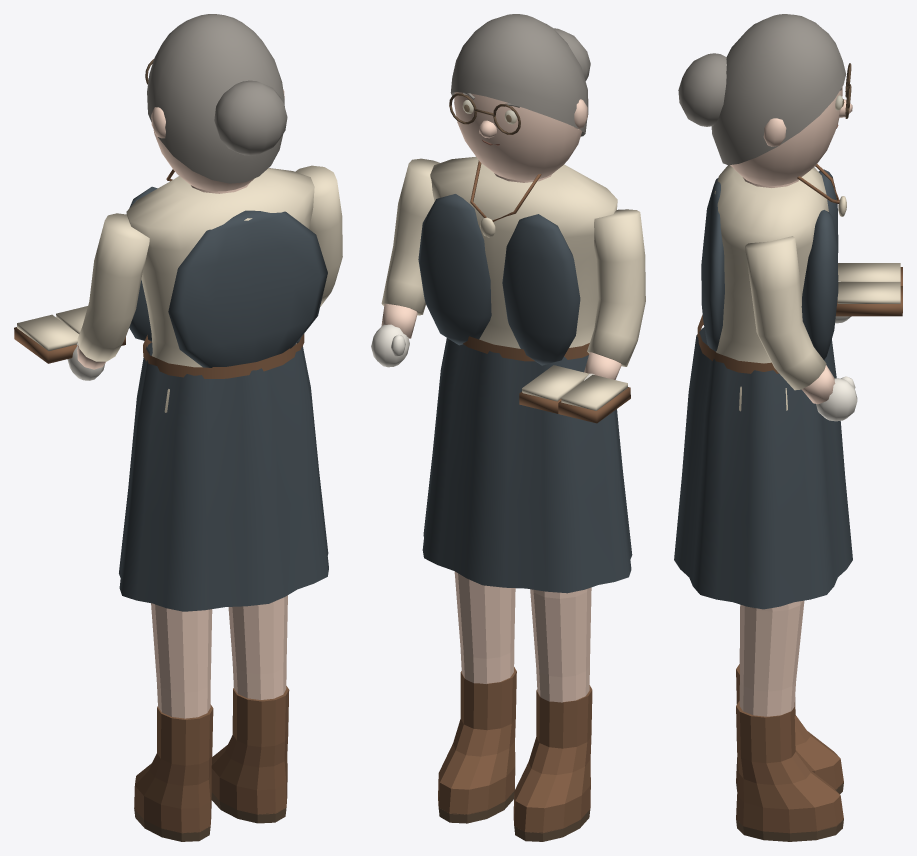
Rendered from SM_NPC_SAGE.glb.
The picture shows the model from 3 angles, left to right: view 1: azimuth 30°, elevation 25°; view 2: azimuth 150°, elevation 25°; view 3: azimuth 270°, elevation 25°; orthographic projection.
Visible parts, largest first — view 1: SM_NPC_SAGE_BODY, SM_NPC_SAGE_HAIR, SM_NPC_SAGE_LEG_L, SM_NPC_SAGE_LEG_R, SM_NPC_SAGE_ARM_L, SM_NPC_SAGE_ARM_R, SM_NPC_SAGE_HEAD; view 2: SM_NPC_SAGE_BODY, SM_NPC_SAGE_LEG_L, SM_NPC_SAGE_LEG_R, SM_NPC_SAGE_ARM_L, SM_NPC_SAGE_HAIR, SM_NPC_SAGE_HEAD, SM_NPC_SAGE_ARM_R; view 3: SM_NPC_SAGE_BODY, SM_NPC_SAGE_LEG_R, SM_NPC_SAGE_HAIR, SM_NPC_SAGE_ARM_R, SM_NPC_SAGE_HEAD, SM_NPC_SAGE_ARM_L, SM_NPC_SAGE_LEG_L.
Boxes of the visible parts, x1,y1,x2,y2 form: SM_NPC_SAGE_BODY: (119, 168, 328, 611); SM_NPC_SAGE_HAIR: (147, 14, 287, 183); SM_NPC_SAGE_LEG_L: (134, 603, 213, 841); SM_NPC_SAGE_LEG_R: (211, 595, 289, 823); SM_NPC_SAGE_ARM_L: (14, 213, 149, 380); SM_NPC_SAGE_ARM_R: (295, 165, 342, 306); SM_NPC_SAGE_HEAD: (145, 59, 284, 191); SM_NPC_SAGE_BODY: (418, 156, 632, 593); SM_NPC_SAGE_LEG_L: (513, 587, 592, 841); SM_NPC_SAGE_LEG_R: (438, 571, 516, 823); SM_NPC_SAGE_ARM_L: (519, 209, 645, 423); SM_NPC_SAGE_HAIR: (450, 14, 590, 136); SM_NPC_SAGE_HEAD: (449, 92, 587, 180); SM_NPC_SAGE_ARM_R: (371, 158, 439, 367); SM_NPC_SAGE_BODY: (674, 164, 852, 609); SM_NPC_SAGE_LEG_R: (736, 600, 843, 841); SM_NPC_SAGE_HAIR: (678, 14, 846, 165); SM_NPC_SAGE_ARM_R: (745, 236, 857, 421); SM_NPC_SAGE_HEAD: (730, 63, 852, 185); SM_NPC_SAGE_ARM_L: (835, 263, 902, 323); SM_NPC_SAGE_LEG_L: (736, 606, 843, 793).
Size of the model in its own units: 0.5939 by 1.71 by 0.4489.
